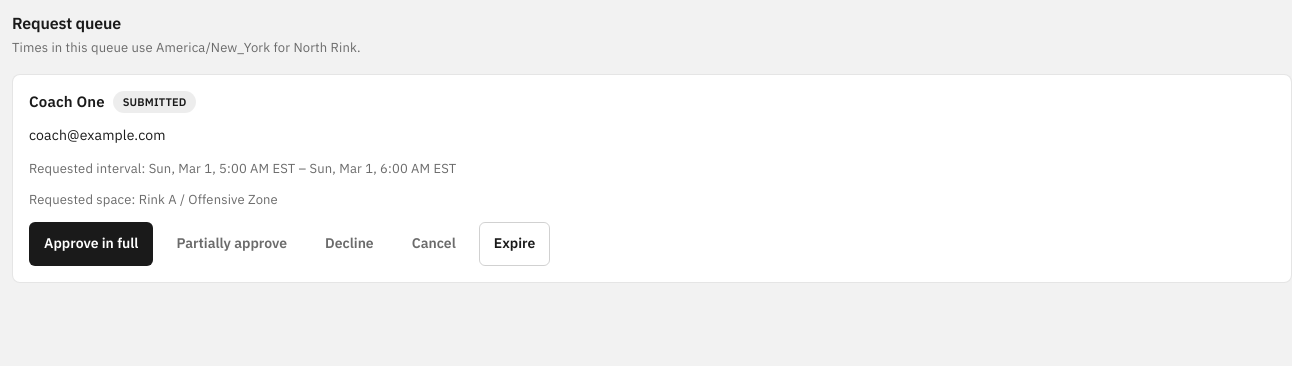
SurfaceTimeRequestQueue › renders server validation failures returned by decideSurfaceTimeRequest
Click the button "Approve in full": (91, 244) [29,222,153,266]
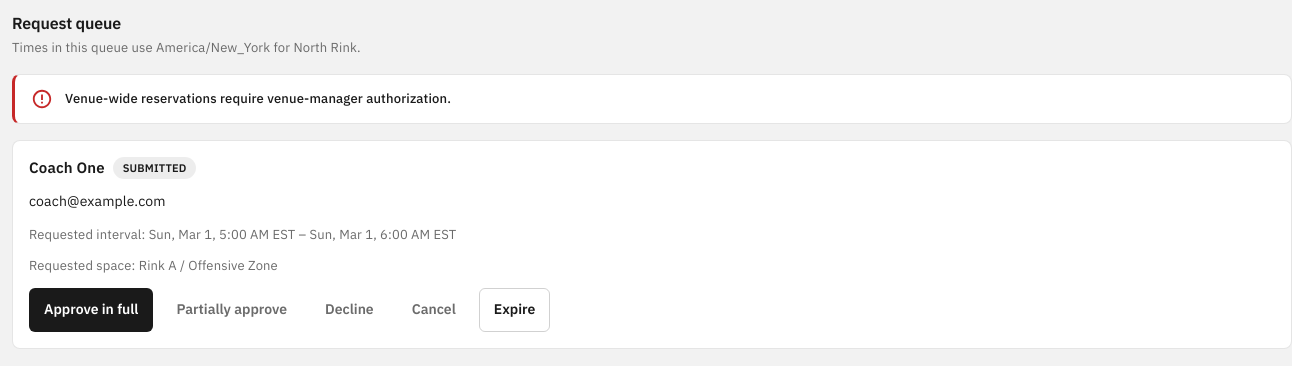
Expected: the text "Venue-wide reservations require venue-manager authorization." is shown, [65,90,451,107]
